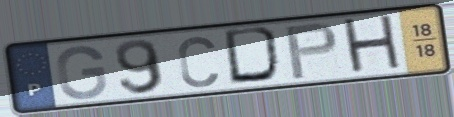9: (112, 38, 166, 96)
C: (175, 34, 221, 90)
D: (221, 25, 288, 87)
G: (54, 43, 110, 101)
H: (339, 12, 406, 78)
P: (282, 21, 341, 82)
